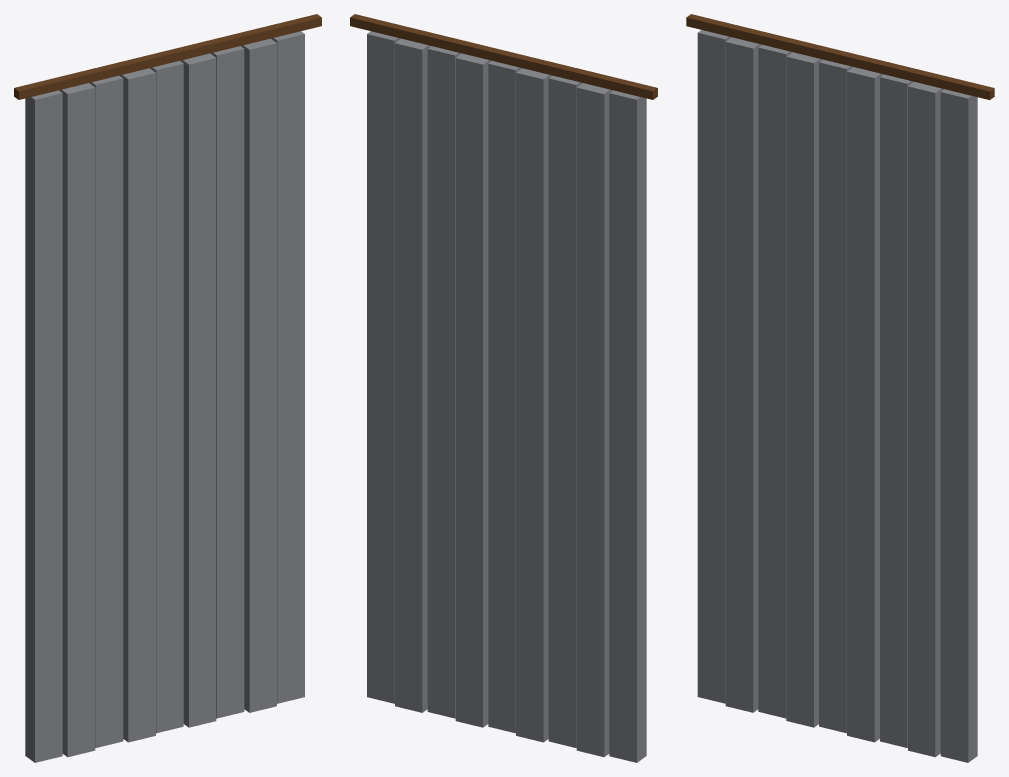
File: curtain.glb
3 renders of one model, left to right at view 1: azimuth 30°, elevation 25°; view 2: azimuth 150°, elevation 25°; view 3: azimuth 330°, elevation 25°, orthographic.
Parts seen in each view (by area): view 1: curtain; view 2: curtain; view 3: curtain.
Part boxes in pixels (x1=…): curtain: x1=14, y1=14, x2=321, y2=762; curtain: x1=350, y1=14, x2=657, y2=762; curtain: x1=686, y1=14, x2=994, y2=762.
Size of the model in its own units: 1.1 by 2.33 by 0.09.
